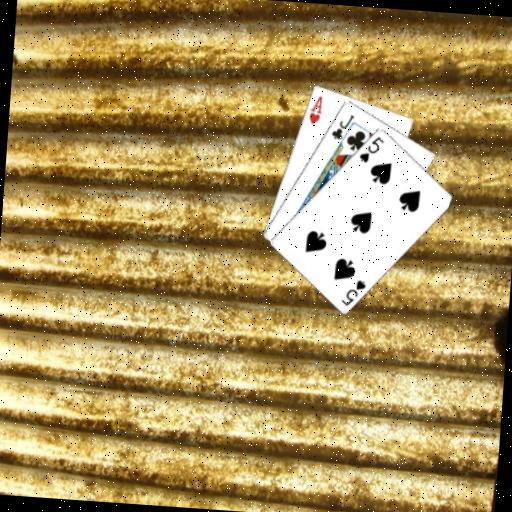5S: (356, 132, 386, 165), (338, 276, 368, 309)
AH: (306, 92, 325, 126)
JC: (328, 110, 357, 142)
